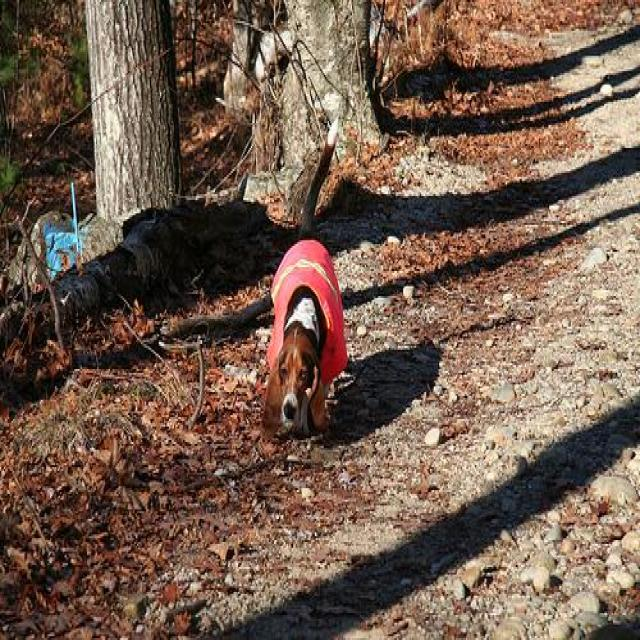basset: (258, 236, 350, 444)
